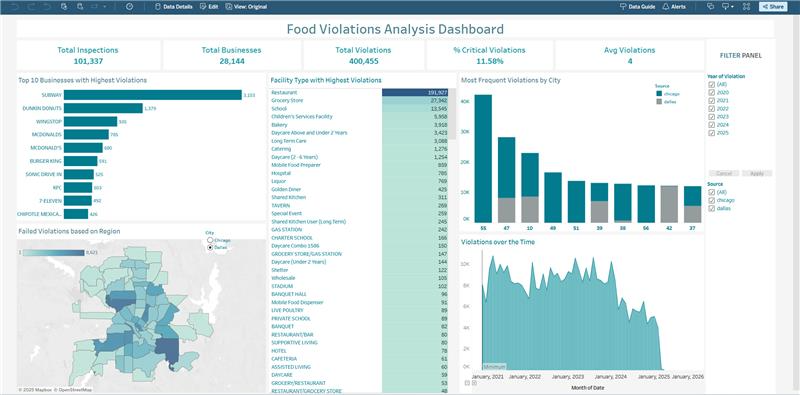

What the dashboard file says about the page in this screenshot:
{"tool":"tableau","page":{"name":"Violation Dashboard","canvas":[1900,950],"ordinal":1},"visuals":[{"type":"title","box":[8,8,1884,74]},{"type":"worksheet","title":"TotalInspections","mark":"Automatic","box":[8,82,363.8,78.4]},{"type":"worksheet","title":"TotalBusinesses","mark":"Automatic","box":[371.8,82,348.2,78.4]},{"type":"worksheet","title":"TotalViolations","mark":"Automatic","box":[720,82,305.4,78.4]},{"type":"worksheet","title":"%CriticalViolations","mark":"Automatic","box":[1025.4,82,318.2,78.4]},{"type":"worksheet","title":"AvgViolationsPerInspection","mark":"Automatic","box":[1343.6,82,375.4,78.4]},{"type":"text","box":[1719,82,173,78.4]},{"type":"worksheet","title":"Top10Business","mark":"Automatic","rows":["BUSINESS_NAME"],"cols":["VIOLATION_INSPECTION_SK"],"box":[8,160.4,625,364.4]},{"type":"worksheet","title":"Facility Type with Highest Violations","mark":"Square","rows":["FACILITY_TYPE"],"box":[633,160.4,472,781.6]},{"type":"worksheet","title":"TopViolations","mark":"Automatic","rows":["VIOLATION_INSPECTION_SK"],"cols":["VIOLATION_CODE"],"box":[1105,160.4,614,390.8]},{"type":"filter","title":"TopViolations","param":"[federated.12o3z7o02jibvc11jeltm0jitoa3].[yr:DATE:ok]","box":[1719,160.4,173,267]},{"type":"legend","title":"TopViolations","param":"[federated.12o3z7o02jibvc11jeltm0jitoa3].[none:SOURCE:nk]","box":[1594,169,113,71]},{"type":"filter","title":"Top10Business","param":"[federated.12o3z7o02jibvc11jeltm0jitoa3].[none:SOURCE:nk]","box":[1719,427.4,173,121]},{"type":"worksheet","title":"FailedViolationsBasedonRegion","mark":"Automatic","box":[8,524.8,625,417.2]},{"type":"filter","title":"FailedViolationsBasedonRegion","param":"[federated.12o3z7o02jibvc11jeltm0jitoa3].[none:CITY:nk]","box":[480,532,145,80]},{"type":"worksheet","title":"Violations over the Time","mark":"Area","rows":["VIOLATION_INSPECTION_SK"],"cols":["DATE"],"box":[1105,551.2,614,390.8]},{"type":"legend","title":"FailedViolationsBasedonRegion","param":"[federated.12o3z7o02jibvc11jeltm0jitoa3].[cnt:VIOLATION_INSPECTION_SK:qk]","box":[13,578,205,48]}]}

Visuals, with their boxes on the page's 1900x950 design canvas (x1, y1, x2, y2). These are canvas units, not pixel positions in the 800x395 screenshot, which may show the page scaled, cropped or inside an application window:
title: 8/8/1892/82
"TotalInspections" worksheet: 8/82/372/160
"TotalBusinesses" worksheet: 372/82/720/160
"TotalViolations" worksheet: 720/82/1025/160
"%CriticalViolations" worksheet: 1025/82/1344/160
"AvgViolationsPerInspection" worksheet: 1344/82/1719/160
text: 1719/82/1892/160
"Top10Business" worksheet: 8/160/633/525
"Facility Type with Highest Violations" worksheet (Square marks): 633/160/1105/942
"TopViolations" worksheet: 1105/160/1719/551
"TopViolations" filter: 1719/160/1892/427
"TopViolations" legend: 1594/169/1707/240
"Top10Business" filter: 1719/427/1892/548
"FailedViolationsBasedonRegion" worksheet: 8/525/633/942
"FailedViolationsBasedonRegion" filter: 480/532/625/612
"Violations over the Time" worksheet (Area marks): 1105/551/1719/942
"FailedViolationsBasedonRegion" legend: 13/578/218/626
